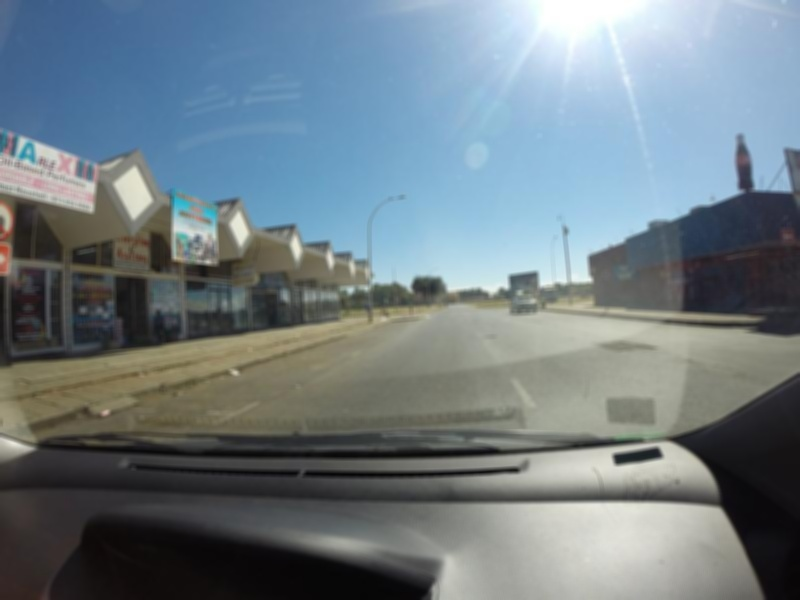pothole: (595, 335, 654, 348), (485, 334, 499, 340)
